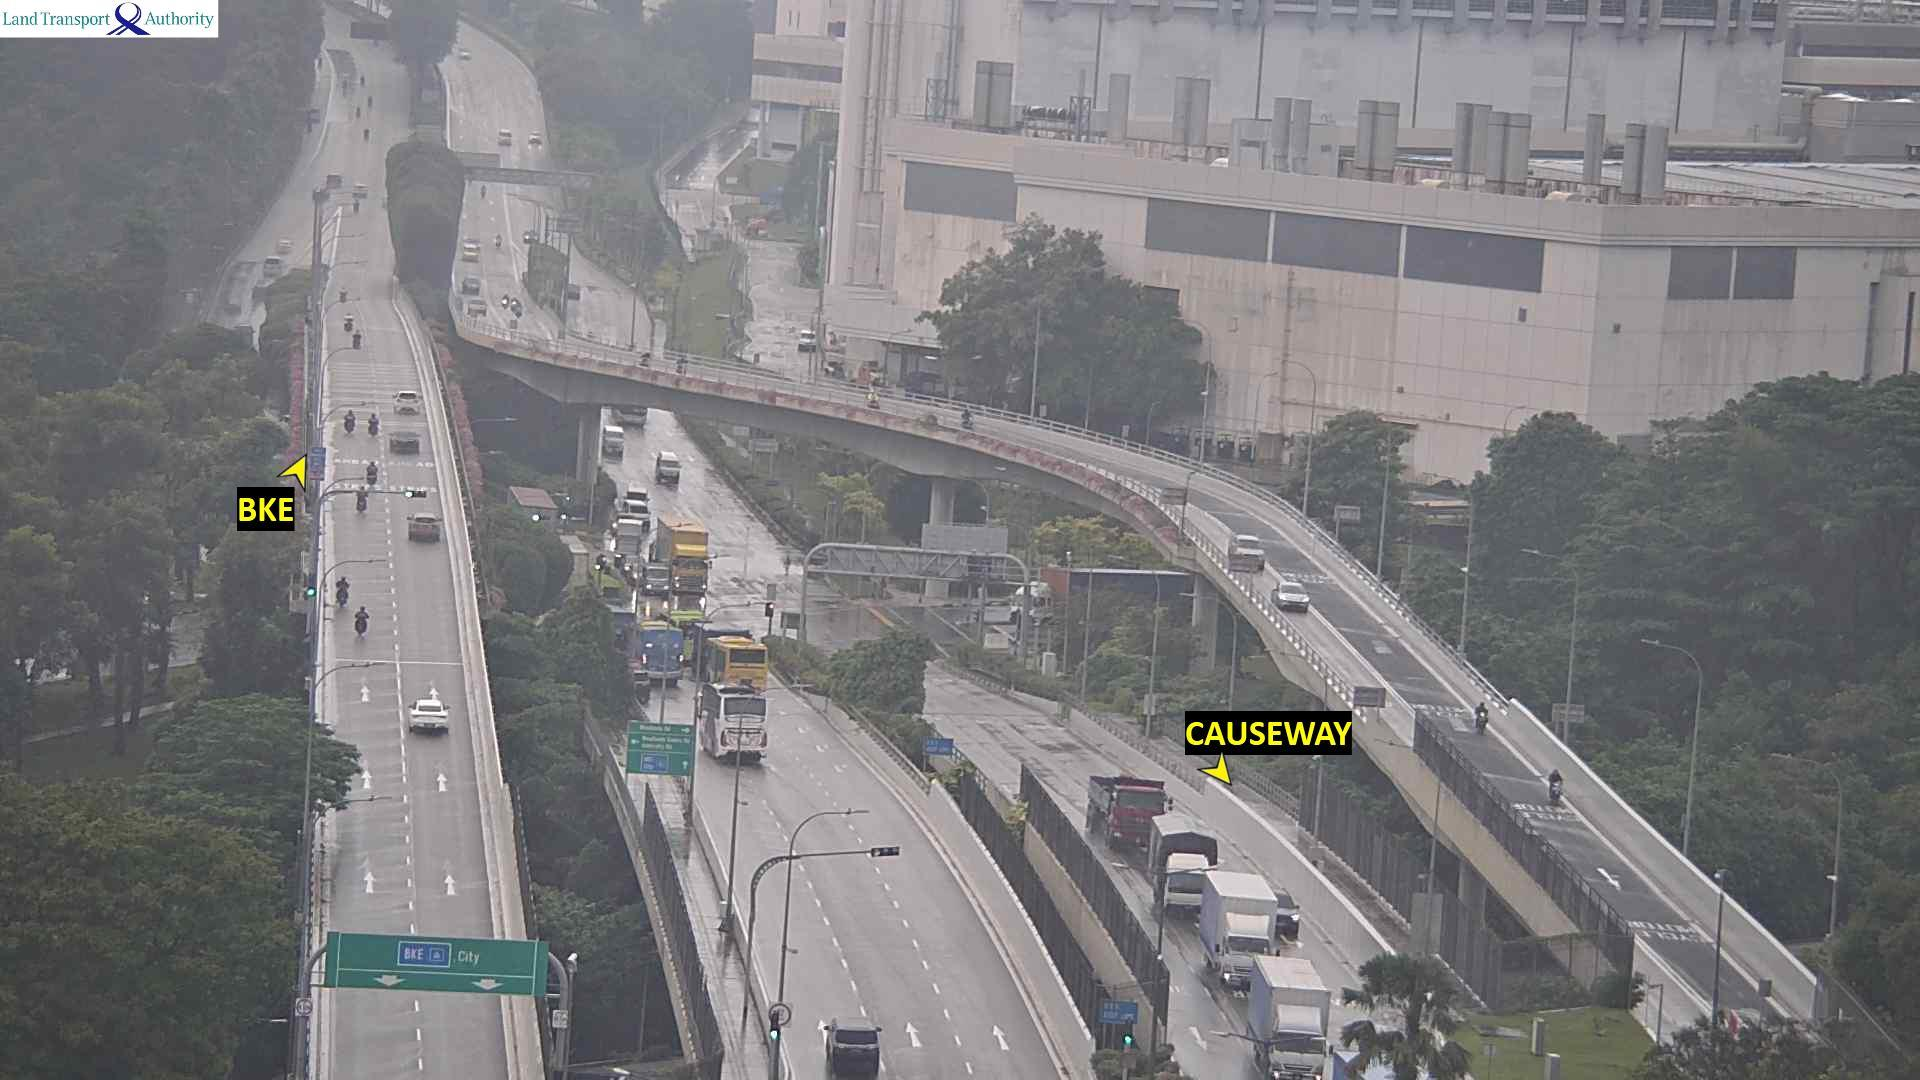vehicle-causeway-johor: (1250, 951, 1329, 1080), (1203, 872, 1275, 992), (1145, 815, 1217, 913), (1091, 771, 1174, 843), (1265, 887, 1300, 938), (1232, 537, 1270, 567), (1275, 583, 1312, 611), (1547, 766, 1563, 807), (1474, 700, 1487, 735), (463, 277, 481, 297), (468, 298, 488, 315), (961, 407, 973, 426), (676, 355, 686, 373), (869, 389, 878, 406), (640, 351, 650, 365)
vehicle-causeway-singapore: (699, 690, 767, 765), (700, 629, 770, 688), (825, 1015, 878, 1079), (637, 630, 683, 687), (409, 699, 452, 733), (410, 514, 443, 543), (393, 388, 419, 414), (392, 431, 421, 451), (335, 578, 349, 607), (363, 463, 377, 487), (356, 608, 368, 637), (352, 330, 365, 352), (365, 415, 377, 434), (345, 410, 355, 431), (359, 488, 367, 510), (344, 313, 352, 331)
